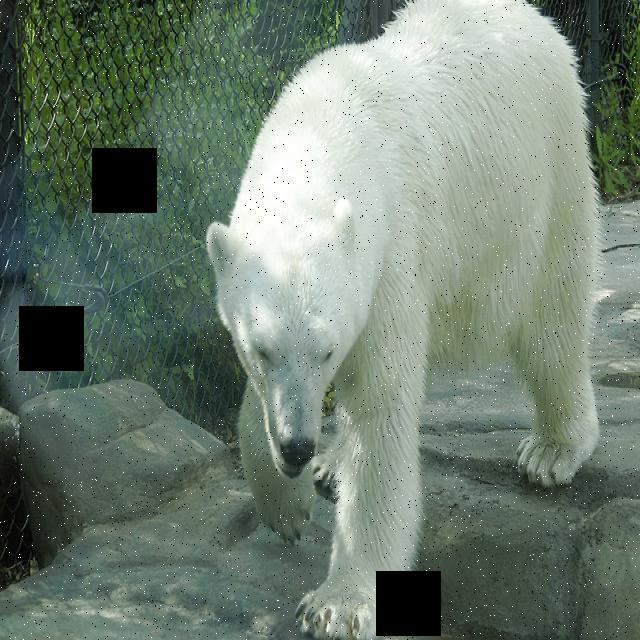Bear: (198, 0, 601, 640)
